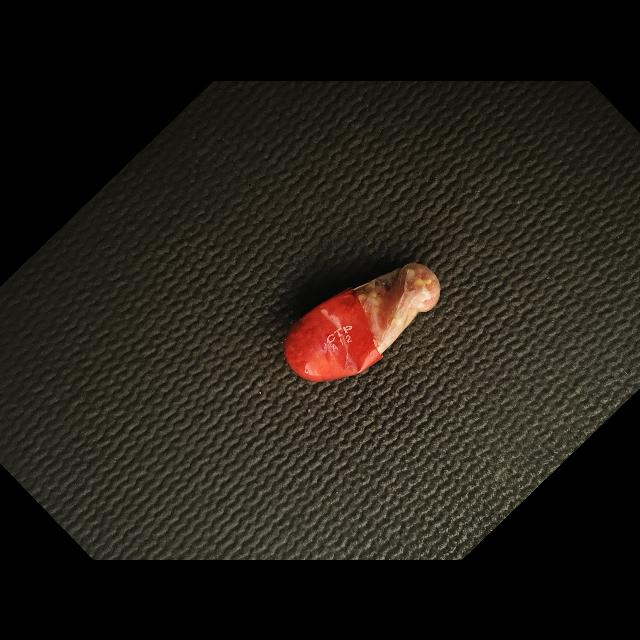Defective Capsule: (284, 263, 441, 381)
